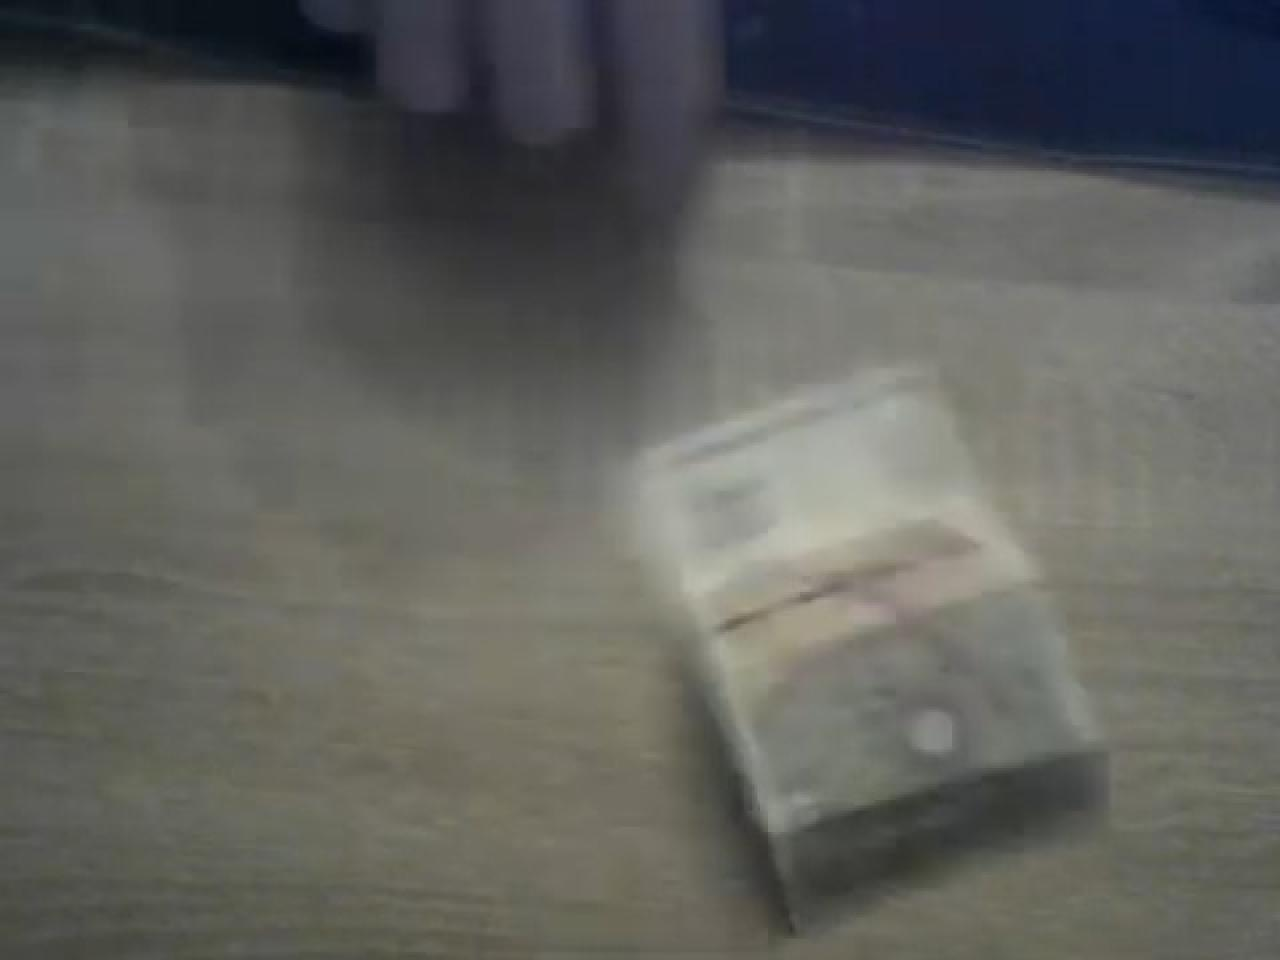10leva: (629, 368, 1110, 939)
